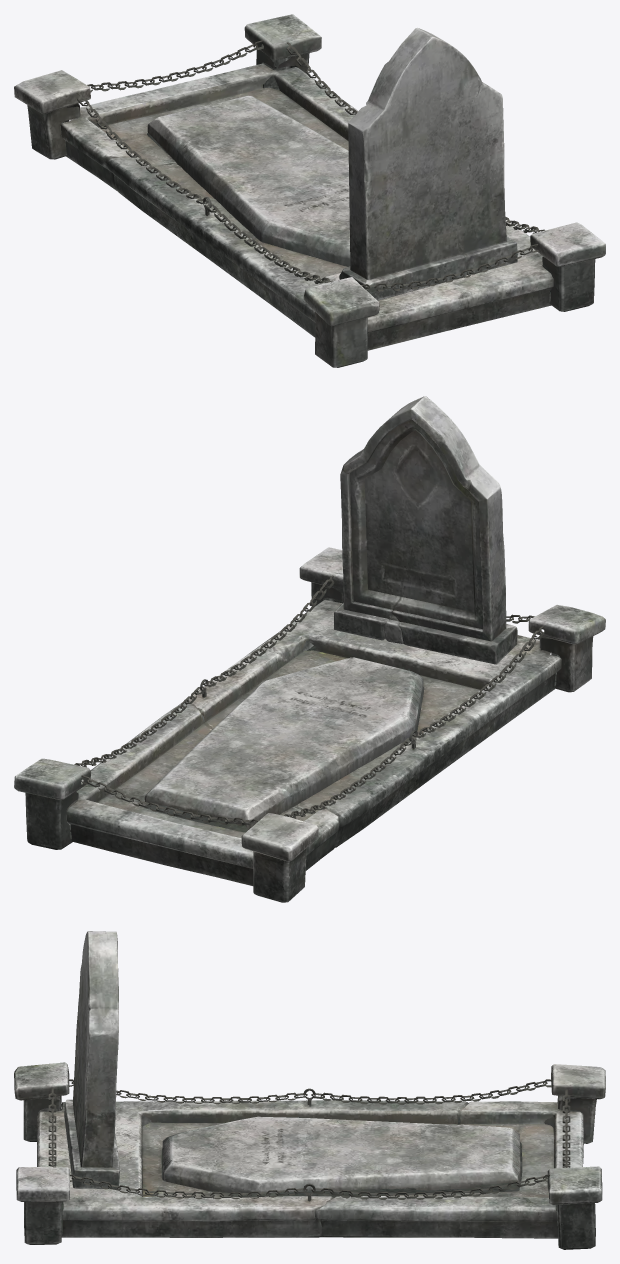
3 views of the same model, one above another, from view 1: azimuth 30°, elevation 25°; view 2: azimuth 150°, elevation 25°; view 3: azimuth 270°, elevation 25° (orthographic). The views are drawn at different scales.
Parts seen in each view (by area): view 1: SM_Human_Gravestone_01v2_LOD0; view 2: SM_Human_Gravestone_01v2_LOD0; view 3: SM_Human_Gravestone_01v2_LOD0.
Part boxes in pixels (x1,y1,x2,y2): SM_Human_Gravestone_01v2_LOD0: [14, 14, 605, 367]; SM_Human_Gravestone_01v2_LOD0: [14, 396, 605, 902]; SM_Human_Gravestone_01v2_LOD0: [14, 931, 605, 1249].
Bounding box in the file's own units: 1.97 × 1.89 × 3.87.
Materials: 2 (2 with a texture image).
